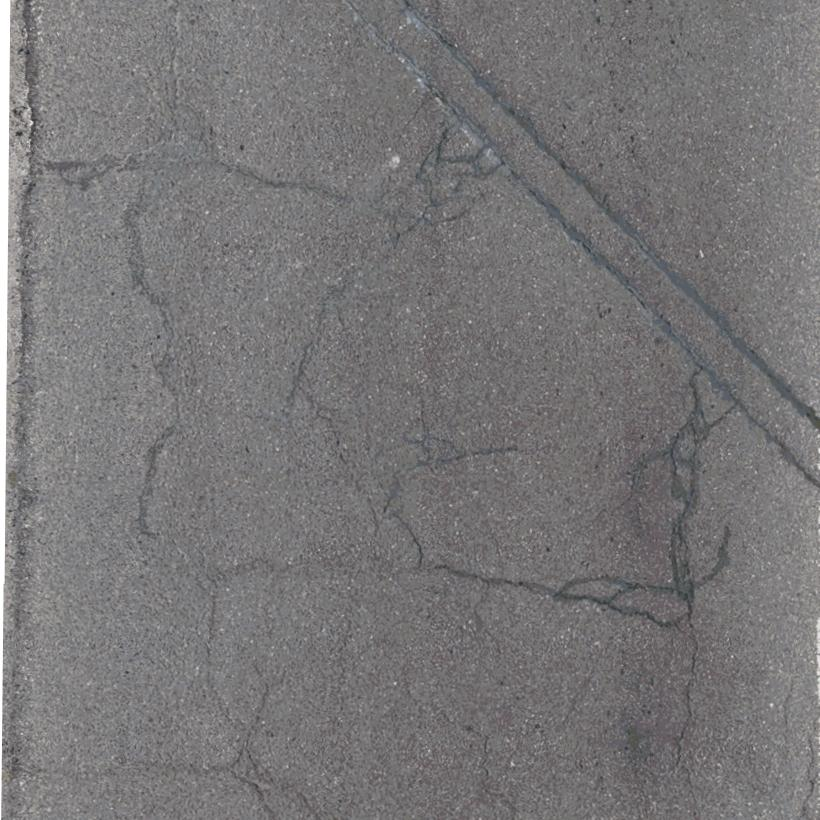GRIETA: (402, 0, 819, 430), (508, 168, 704, 367), (345, 0, 459, 115), (317, 411, 381, 537), (403, 670, 489, 753), (213, 157, 362, 204), (33, 126, 171, 175), (740, 403, 819, 488), (285, 286, 338, 407), (227, 661, 270, 769), (138, 425, 178, 539), (433, 565, 555, 595), (675, 623, 699, 767), (612, 449, 667, 511), (695, 525, 731, 590), (229, 770, 275, 819), (390, 512, 424, 571), (437, 445, 518, 465), (207, 671, 232, 722), (801, 738, 815, 818), (172, 2, 181, 107), (680, 765, 697, 817), (206, 594, 217, 658), (781, 677, 794, 729)
PIEL DE COCODRILO: (552, 365, 741, 632), (413, 112, 508, 227)
